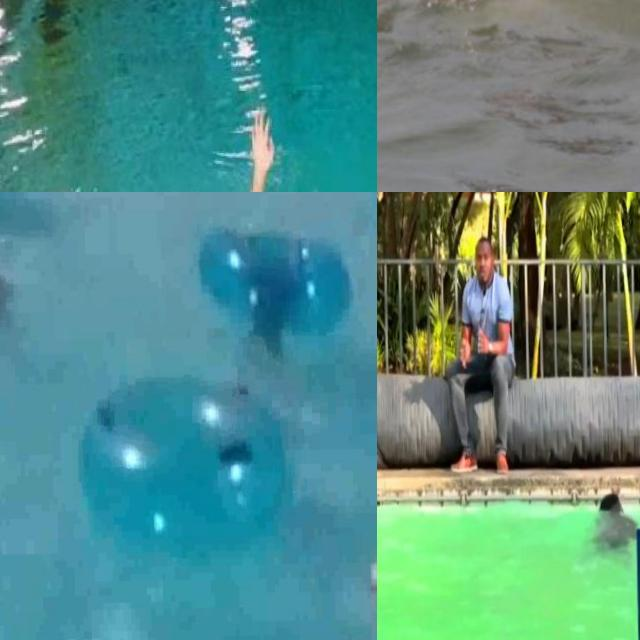drowning: (377, 0, 640, 48), (233, 106, 358, 192), (198, 348, 292, 428)
out of water: (452, 222, 534, 479)
swimming: (586, 484, 640, 556)
